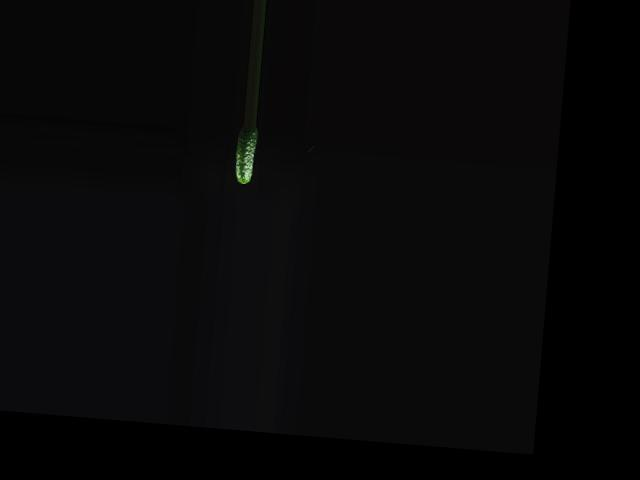cucumber: (234, 124, 259, 184)
